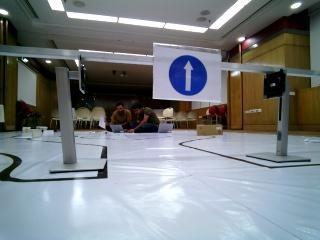straight: (154, 42, 223, 102)
